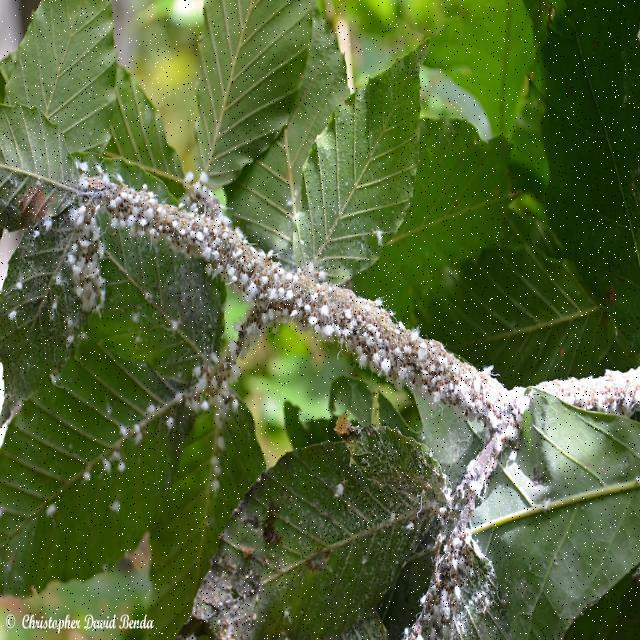Aphids: (17, 36, 459, 445)
